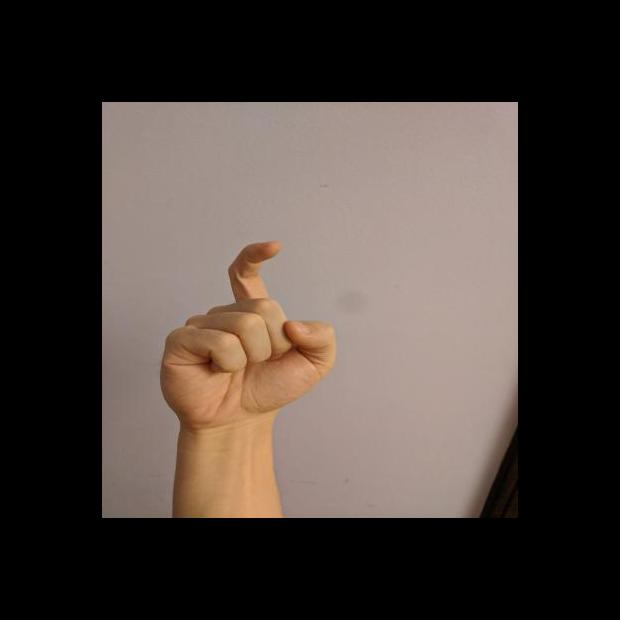W: (155, 237, 341, 429)
